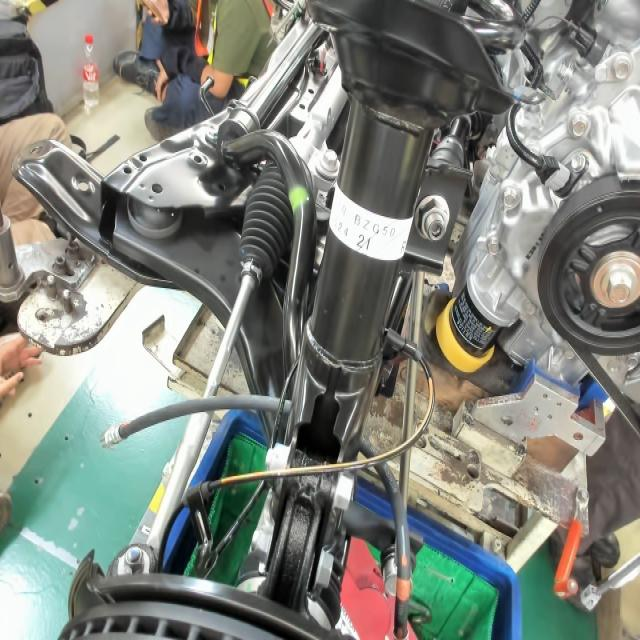Absorber RH-21: (352, 229, 379, 258)
Bar Stabilizer-HJ: (285, 177, 312, 217)
